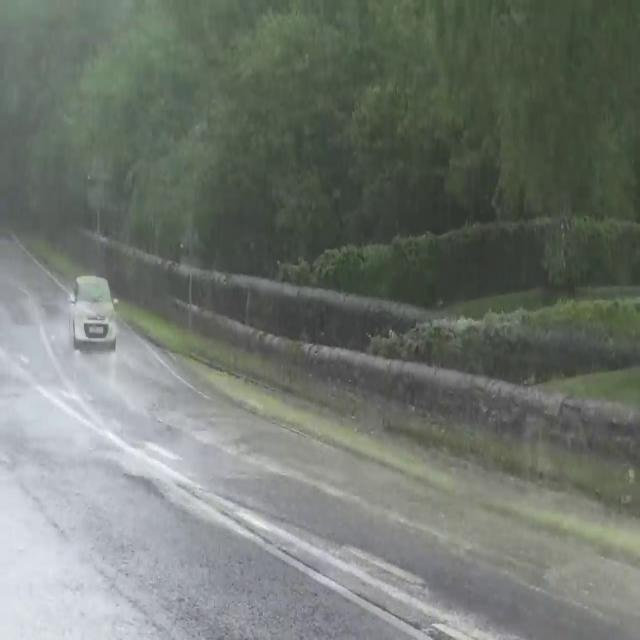license-plate-annotation: (87, 320, 107, 337)
